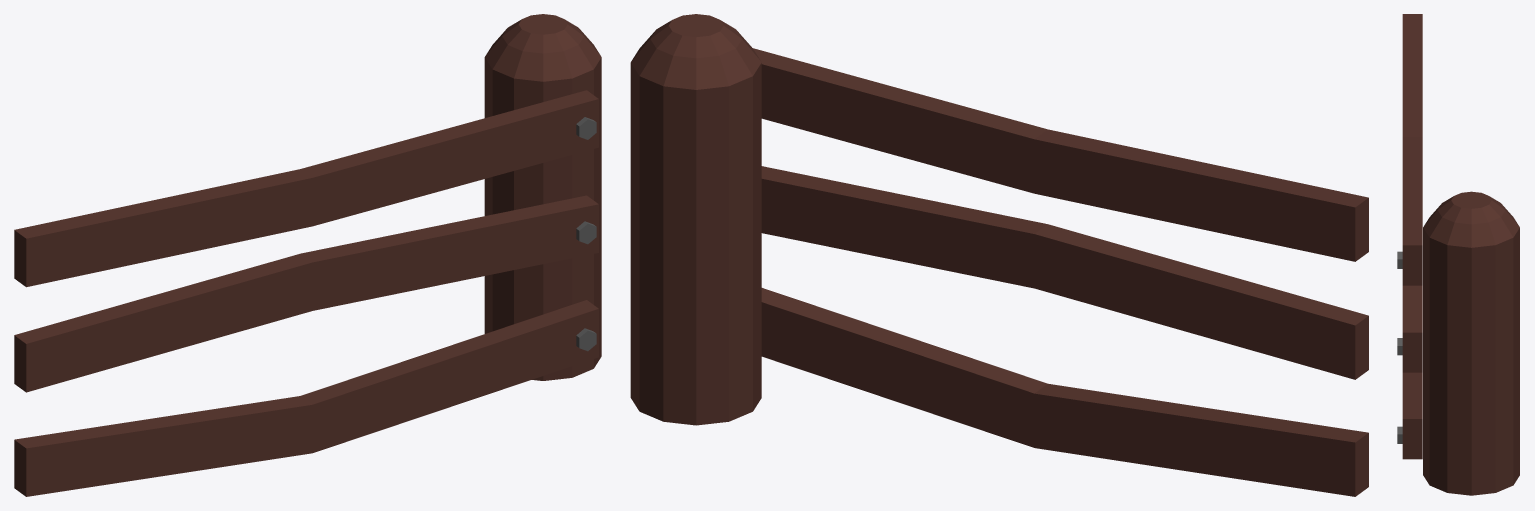
The model's file is fence_variation2.fbx.
3 views of the same model, side by side, from view 1: azimuth 30°, elevation 25°; view 2: azimuth 150°, elevation 25°; view 3: azimuth 270°, elevation 25° (orthographic). The views are drawn at different scales.
Parts seen in each view (by area): view 1: Cylinder; view 2: Cylinder; view 3: Cylinder.
Boxes of the visible parts, left/top/right/bottom form: Cylinder: left=14, top=14, right=601, bottom=496; Cylinder: left=630, top=14, right=1368, bottom=496; Cylinder: left=1397, top=14, right=1519, bottom=495.
Bounding box in the file's own units: 481 × 252 × 102.
